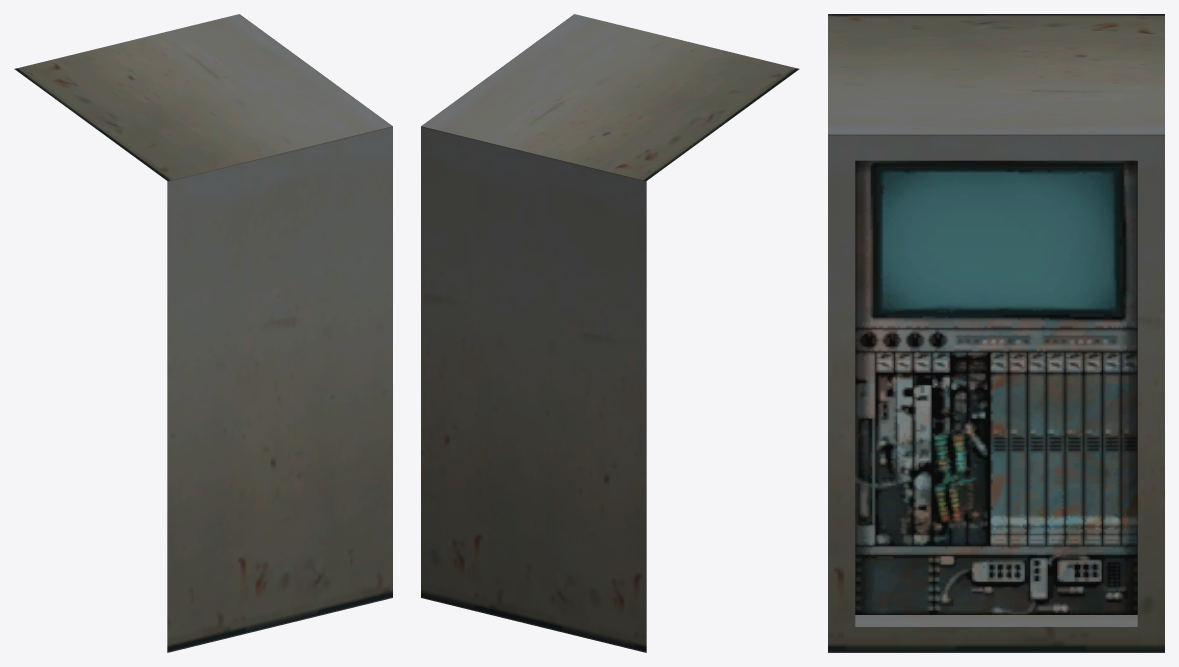
File: M11_LABKIT04.glb
3 views of the same model, side by side, from view 1: azimuth 30°, elevation 25°; view 2: azimuth 150°, elevation 25°; view 3: azimuth 270°, elevation 25° (orthographic). The views are drawn at different scales.
Visible parts, largest first — view 1: M11_LABKIT04; view 2: M11_LABKIT04; view 3: M11_LABKIT04.
Boxes of the visible parts, left/top/right/bottom form: M11_LABKIT04: left=14, top=14, right=392, bottom=652; M11_LABKIT04: left=421, top=14, right=799, bottom=652; M11_LABKIT04: left=828, top=14, right=1164, bottom=652.
Size of the model in its own units: 1 by 2 by 1.18.
Materials: 2 (2 with a texture image).
